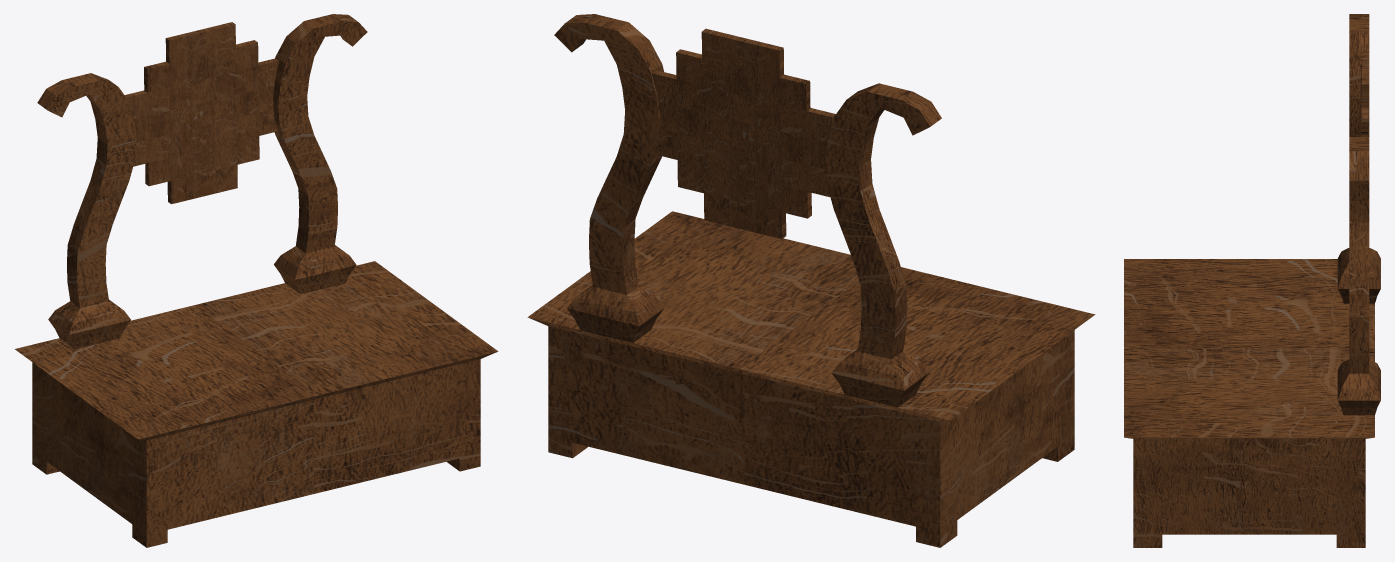
File: mirrorTable.glb
The picture shows the model from 3 angles, left to right: view 1: azimuth 30°, elevation 25°; view 2: azimuth 150°, elevation 25°; view 3: azimuth 270°, elevation 25°; orthographic projection. The views are drawn at different scales.
Parts seen in each view (by area): view 1: Cube; view 2: Cube; view 3: Cube.
Part boxes in pixels (x1=…): Cube: x1=15, y1=14, x2=498, y2=547; Cube: x1=527, y1=14, x2=1095, y2=547; Cube: x1=1124, y1=14, x2=1380, y2=547.
Bounding box in the file's own units: 0.3241 × 0.3367 × 0.1968.
1 material, 1 textured.
